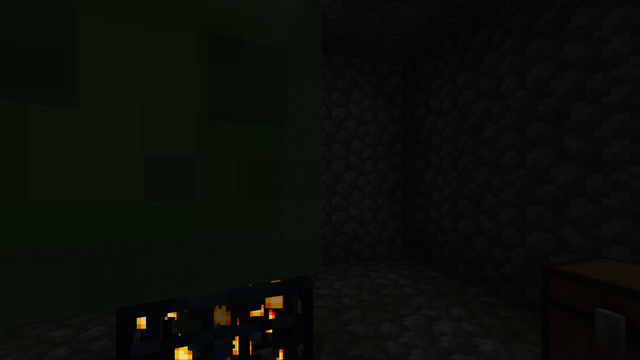slimes: (41, 4, 320, 311)
